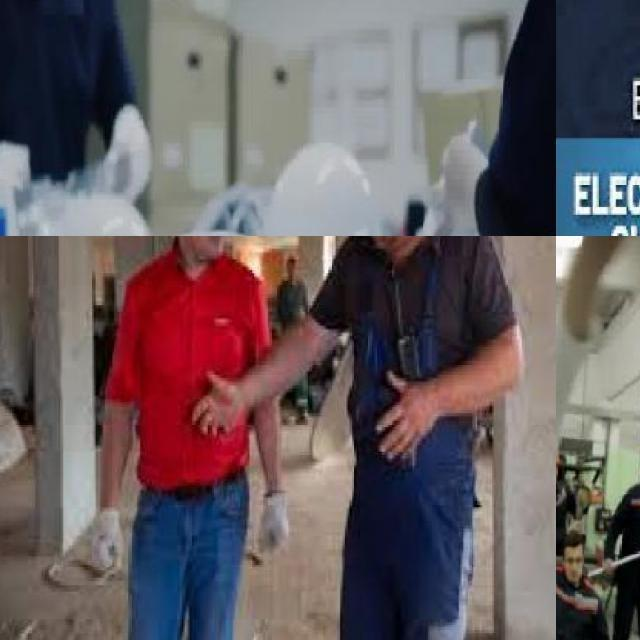apron: (87, 504, 124, 575), (256, 484, 292, 555)
